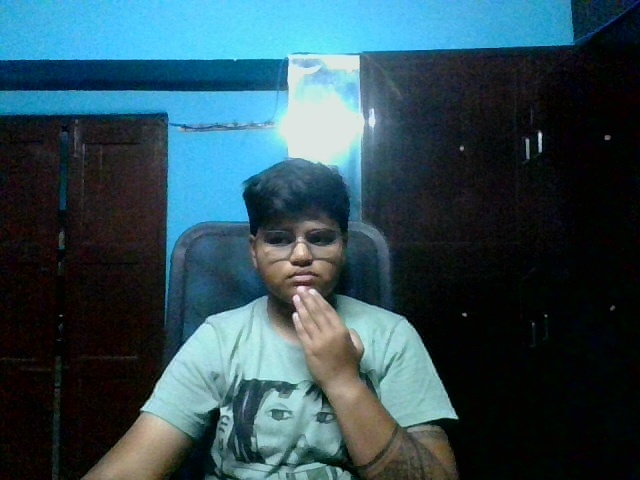THANKS: (229, 163, 375, 403)
